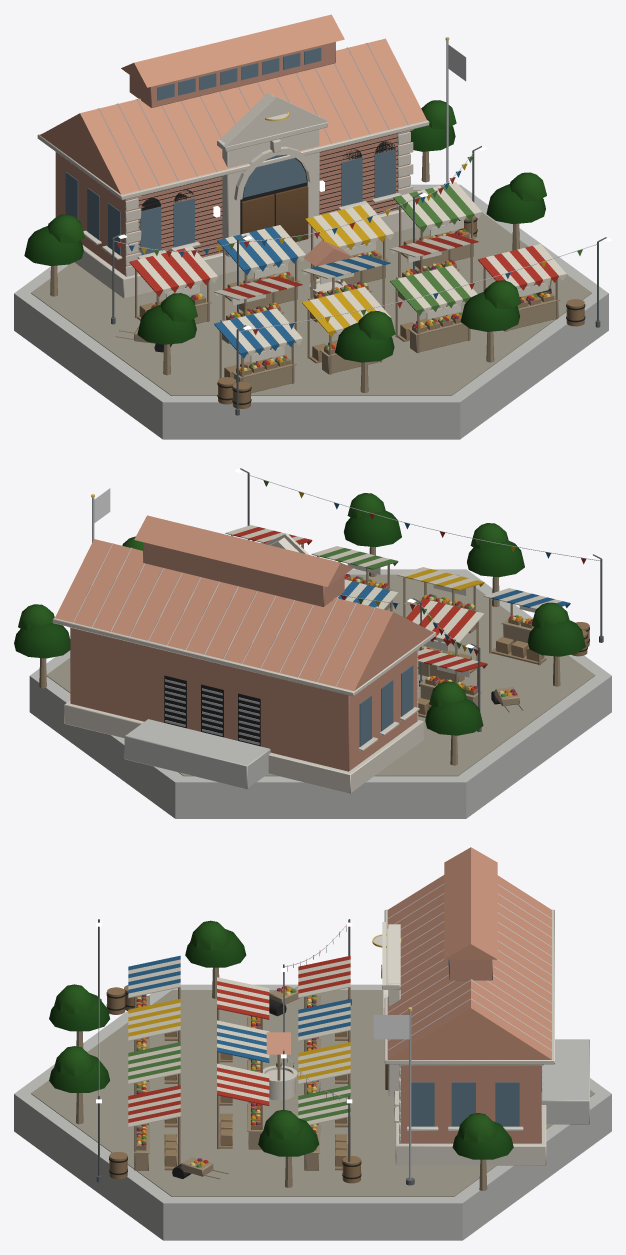
Rendered from market.glb.
3 views of the same model, one above another, from view 1: azimuth 30°, elevation 25°; view 2: azimuth 150°, elevation 25°; view 3: azimuth 270°, elevation 25° (orthographic). The views are drawn at different scales.
Visible parts, largest first — view 1: roof_tile, wall_concrete, pavers, paint, wood, stone, leaf, brick, glass, dark, metal, steel_dark; view 2: roof_tile, wall_concrete, brick, pavers, leaf, paint, stone, wood, metal, dark, glass, steel_dark; view 3: pavers, wall_concrete, roof_tile, paint, leaf, wood, stone, brick, metal, glass, steel_dark, banner (+1 smaller).
Boxes of the visible parts, bbox=[...] form: roof_tile: bbox=[40, 14, 426, 266]; wall_concrete: bbox=[14, 184, 608, 439]; pavers: bbox=[31, 190, 591, 395]; paint: bbox=[116, 113, 582, 371]; wood: bbox=[50, 151, 584, 408]; stone: bbox=[37, 93, 429, 298]; leaf: bbox=[24, 100, 546, 362]; brick: bbox=[55, 42, 409, 275]; glass: bbox=[65, 47, 395, 255]; dark: bbox=[125, 133, 585, 404]; metal: bbox=[98, 40, 597, 331]; steel_dark: bbox=[111, 146, 606, 415]; roof_tile: bbox=[55, 515, 433, 690]; wall_concrete: bbox=[29, 569, 611, 818]; brick: bbox=[70, 542, 417, 771]; pavers: bbox=[46, 574, 595, 776]; leaf: bbox=[14, 493, 585, 735]; paint: bbox=[225, 480, 586, 696]; stone: bbox=[52, 533, 436, 793]; wood: bbox=[39, 535, 589, 765]; metal: bbox=[73, 475, 599, 744]; dark: bbox=[164, 627, 589, 746]; glass: bbox=[359, 665, 413, 746]; steel_dark: bbox=[240, 468, 603, 731]; pavers: bbox=[31, 990, 594, 1196]; wall_concrete: bbox=[14, 984, 611, 1240]; roof_tile: bbox=[266, 847, 551, 1059]; paint: bbox=[128, 924, 386, 1167]; leaf: bbox=[49, 920, 513, 1159]; wood: bbox=[76, 967, 487, 1190]; stone: bbox=[263, 909, 554, 1165]; brick: bbox=[400, 959, 541, 1143]; metal: bbox=[98, 884, 552, 1179]; glass: bbox=[411, 959, 519, 1126]; steel_dark: bbox=[96, 919, 414, 1185]; banner: bbox=[373, 1015, 409, 1039].
Size of the model in its own units: 21.41 by 10.7 by 24.6.
